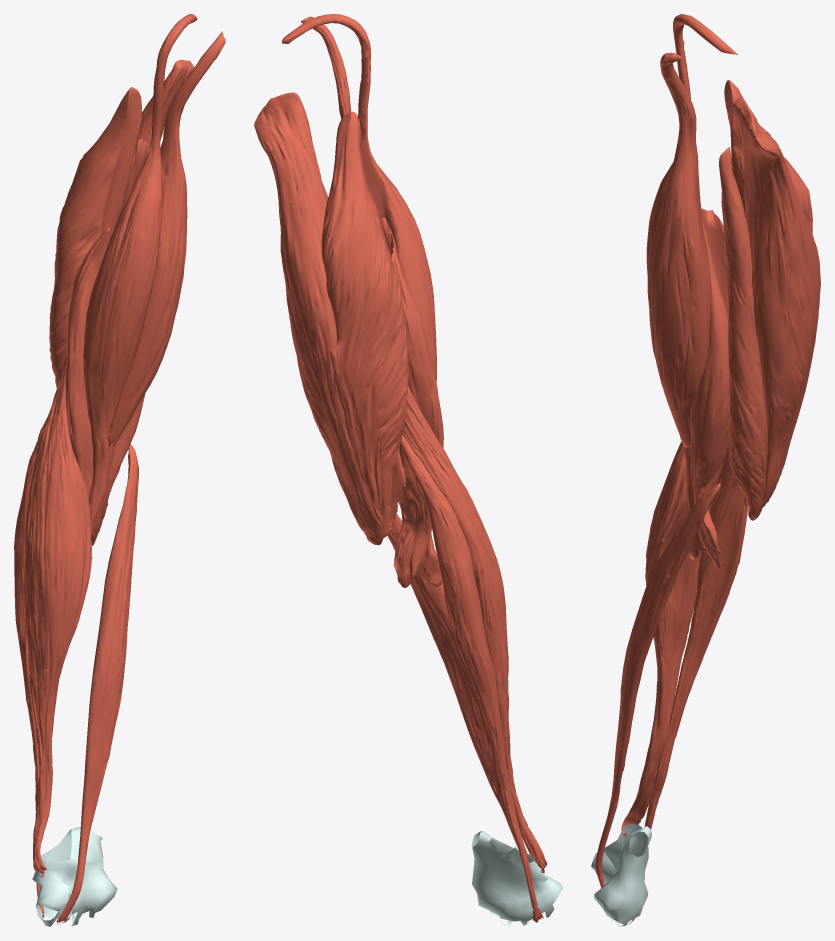
The model's file is arm.glb.
3 renders of one model, left to right at view 1: azimuth 30°, elevation 25°; view 2: azimuth 150°, elevation 25°; view 3: azimuth 270°, elevation 25°, orthographic. The views are drawn at different scales.
Visible parts, largest first — view 1: muscle_biceps_brachii, muscle_brachioradialis, muscle_triceps_lateral_head, muscle_flexor_carpi_radialis, muscle_brachialis, joint_wrist, muscle_extensor_carpi_radialis, muscle_triceps_long_head, muscle_triceps_medial_head; view 2: muscle_triceps_lateral_head, muscle_triceps_long_head, muscle_extensor_carpi_radialis, muscle_brachioradialis, muscle_biceps_brachii, muscle_brachialis, muscle_flexor_carpi_radialis, joint_wrist, muscle_triceps_medial_head; view 3: muscle_triceps_long_head, muscle_biceps_brachii, muscle_triceps_medial_head, muscle_brachioradialis, muscle_brachialis, muscle_extensor_carpi_radialis, muscle_flexor_carpi_radialis, joint_wrist, muscle_triceps_lateral_head.
Boxes of the visible parts, left/top/right/bottom form: muscle_biceps_brachii: left=83, top=14, right=225, bottom=535; muscle_brachioradialis: left=24, top=355, right=92, bottom=877; muscle_triceps_lateral_head: left=49, top=87, right=141, bottom=387; muscle_flexor_carpi_radialis: left=56, top=444, right=138, bottom=923; muscle_brachialis: left=65, top=227, right=144, bottom=546; joint_wrist: left=32, top=827, right=117, bottom=926; muscle_extensor_carpi_radialis: left=14, top=419, right=46, bottom=919; muscle_triceps_long_head: left=128, top=60, right=194, bottom=180; muscle_triceps_medial_head: left=118, top=139, right=148, bottom=218; muscle_triceps_lateral_head: left=321, top=111, right=408, bottom=539; muscle_triceps_long_head: left=254, top=92, right=383, bottom=536; muscle_extensor_carpi_radialis: left=400, top=435, right=543, bottom=922; muscle_brachioradialis: left=402, top=385, right=547, bottom=872; muscle_biceps_brachii: left=281, top=14, right=442, bottom=586; muscle_brachialis: left=380, top=217, right=443, bottom=587; muscle_flexor_carpi_radialis: left=387, top=513, right=527, bottom=853; joint_wrist: left=471, top=830, right=562, bottom=926; muscle_triceps_medial_head: left=330, top=449, right=406, bottom=545; muscle_triceps_long_head: left=733, top=97, right=820, bottom=508; muscle_biceps_brachii: left=646, top=14, right=738, bottom=559; muscle_triceps_medial_head: left=719, top=147, right=767, bottom=520; muscle_brachioradialis: left=621, top=441, right=723, bottom=836; muscle_brachialis: left=690, top=208, right=730, bottom=569; muscle_extensor_carpi_radialis: left=644, top=445, right=748, bottom=829; muscle_flexor_carpi_radialis: left=595, top=483, right=720, bottom=887; joint_wrist: left=591, top=823, right=651, bottom=926; muscle_triceps_lateral_head: left=724, top=80, right=812, bottom=501.
Size of the model in its own units: 0.1617 by 0.5874 by 0.1242.
